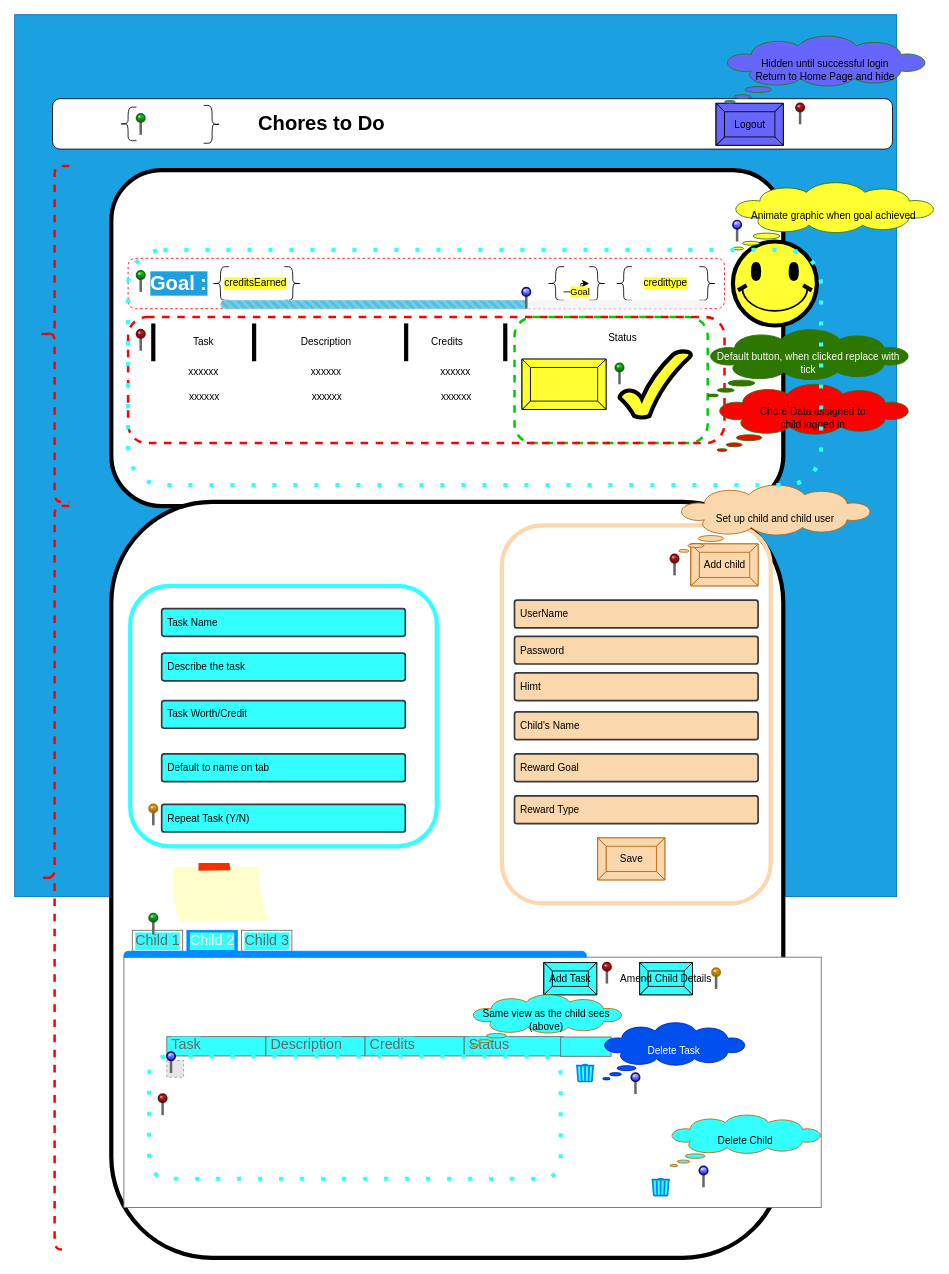
This 949x1274 diagram has some shape labels left out. Grey dashed boxes stand in for pictures. The centre of each missing label's shape, as x and y in pixels:
Complete: (563,384)
Delete: (585,1046)
Name of child: (220,892)
